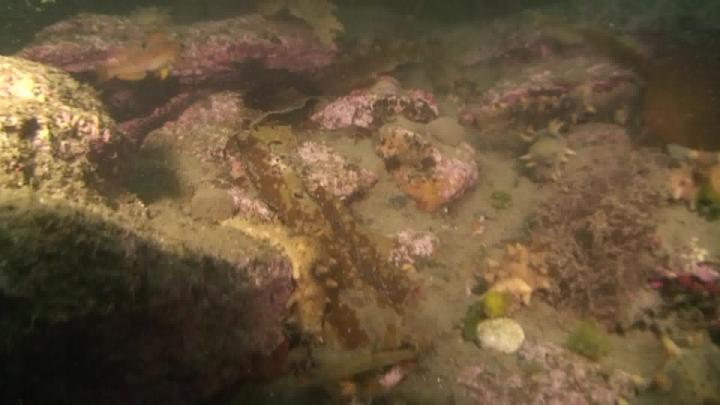holothurian: (220, 214, 341, 342), (516, 93, 591, 183), (659, 332, 720, 405), (479, 242, 549, 303), (668, 160, 720, 221)
scallop: (475, 321, 524, 355)
